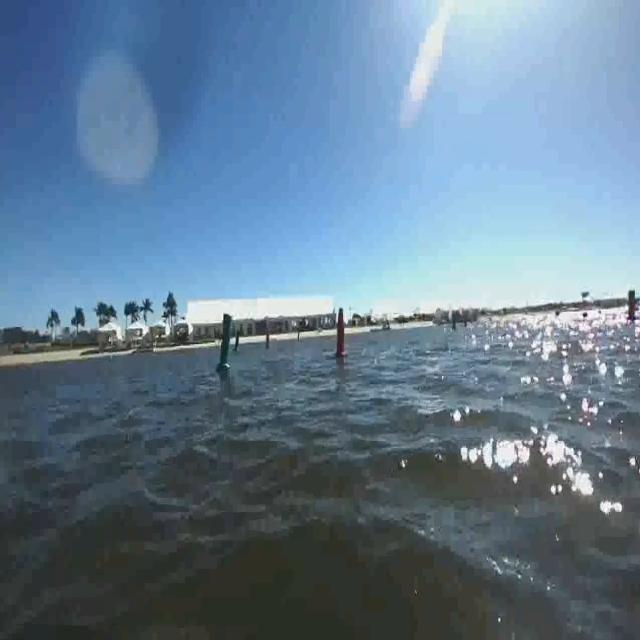green-column-buoy: (215, 313, 233, 374)
red-column-buoy: (335, 306, 350, 359)
